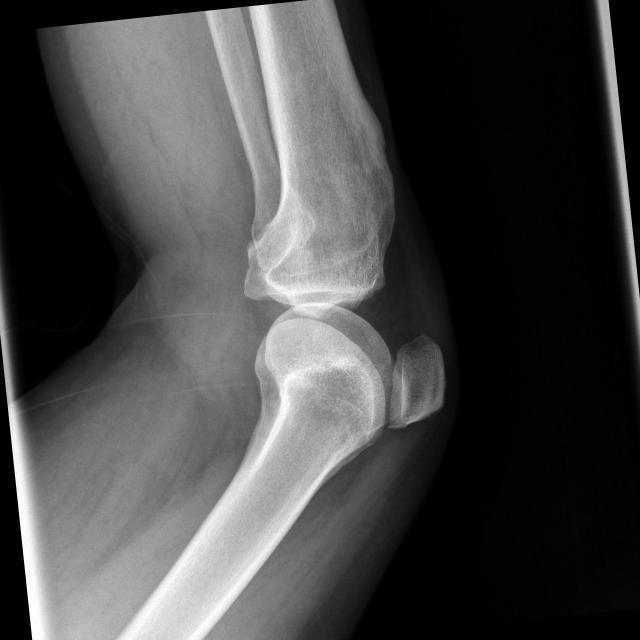Knee: (238, 208, 455, 449)
